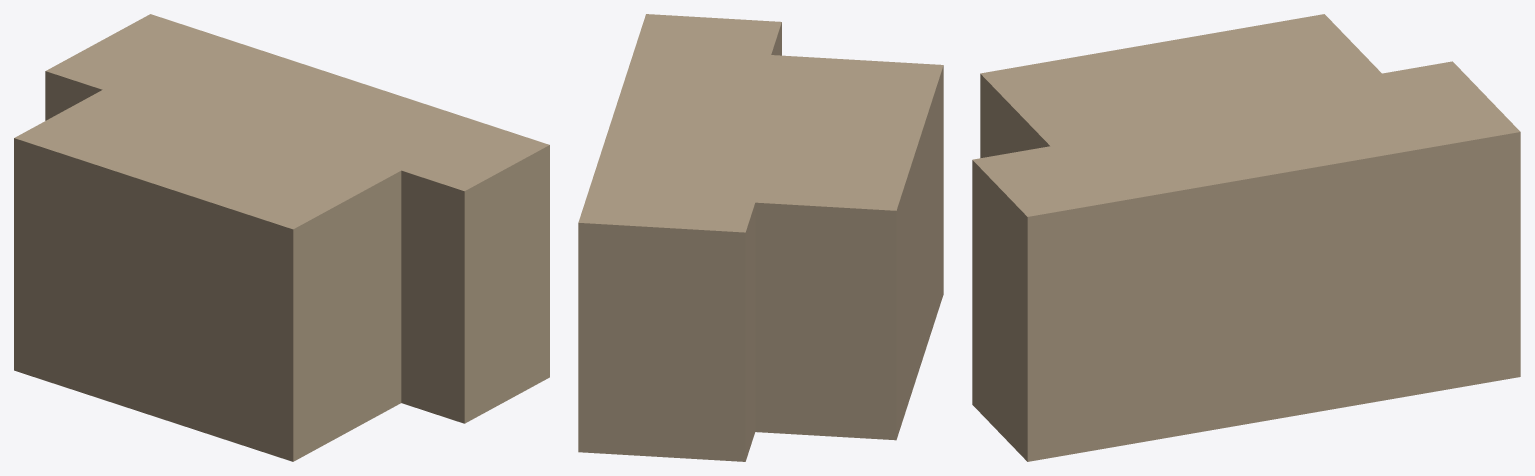
The model's file is bld_106455998.dae.
3 views of the same model, side by side, from view 1: azimuth 30°, elevation 25°; view 2: azimuth 150°, elevation 25°; view 3: azimuth 270°, elevation 25° (orthographic). The views are drawn at different scales.
Visible parts, largest first — view 1: bld_106455998; view 2: bld_106455998; view 3: bld_106455998.
Boxes of the visible parts, x1=… form: bld_106455998: x1=14, y1=14, x2=549, y2=461; bld_106455998: x1=578, y1=14, x2=943, y2=461; bld_106455998: x1=972, y1=14, x2=1520, y2=461.
Bounding box in the file's own units: 14.21 × 16.23 × 8.
